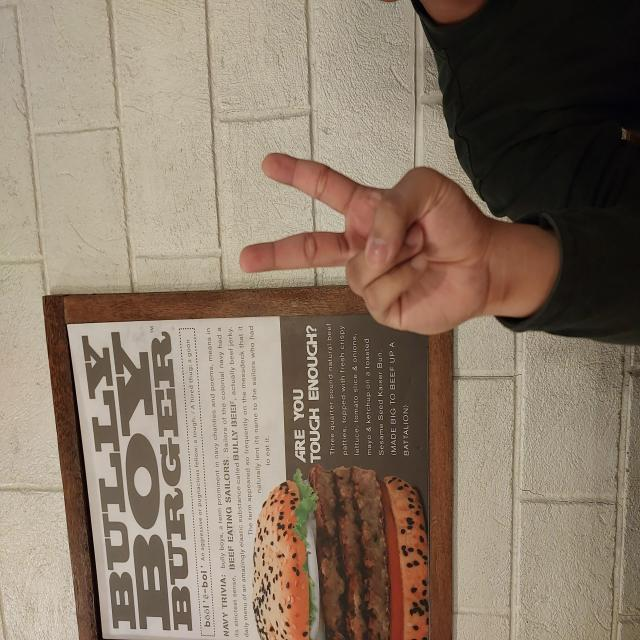V: (303, 238, 489, 490)
